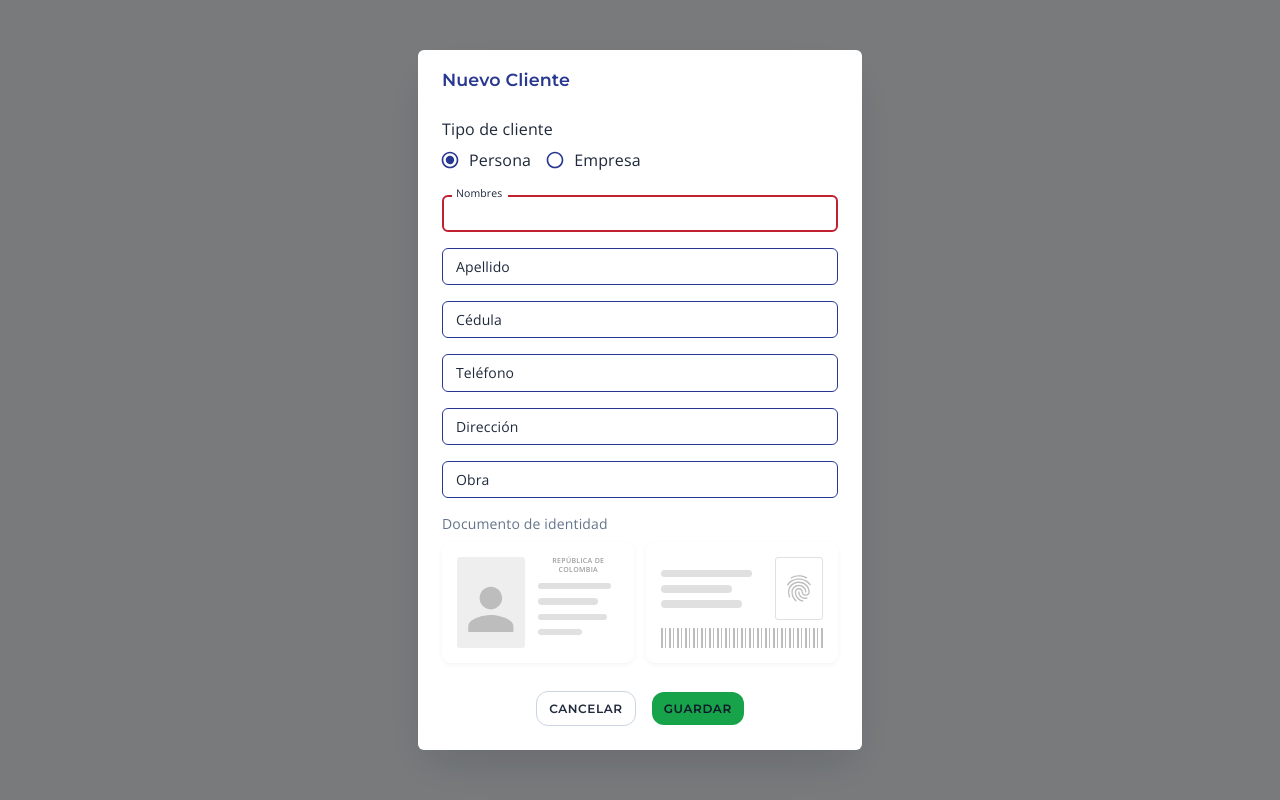
Test: ClienteFormDialog — lo que no deja pasar › una persona sin nombre ni apellido no se guarda
Click the button "Guardar" at (698, 708), box [652,692,744,725]
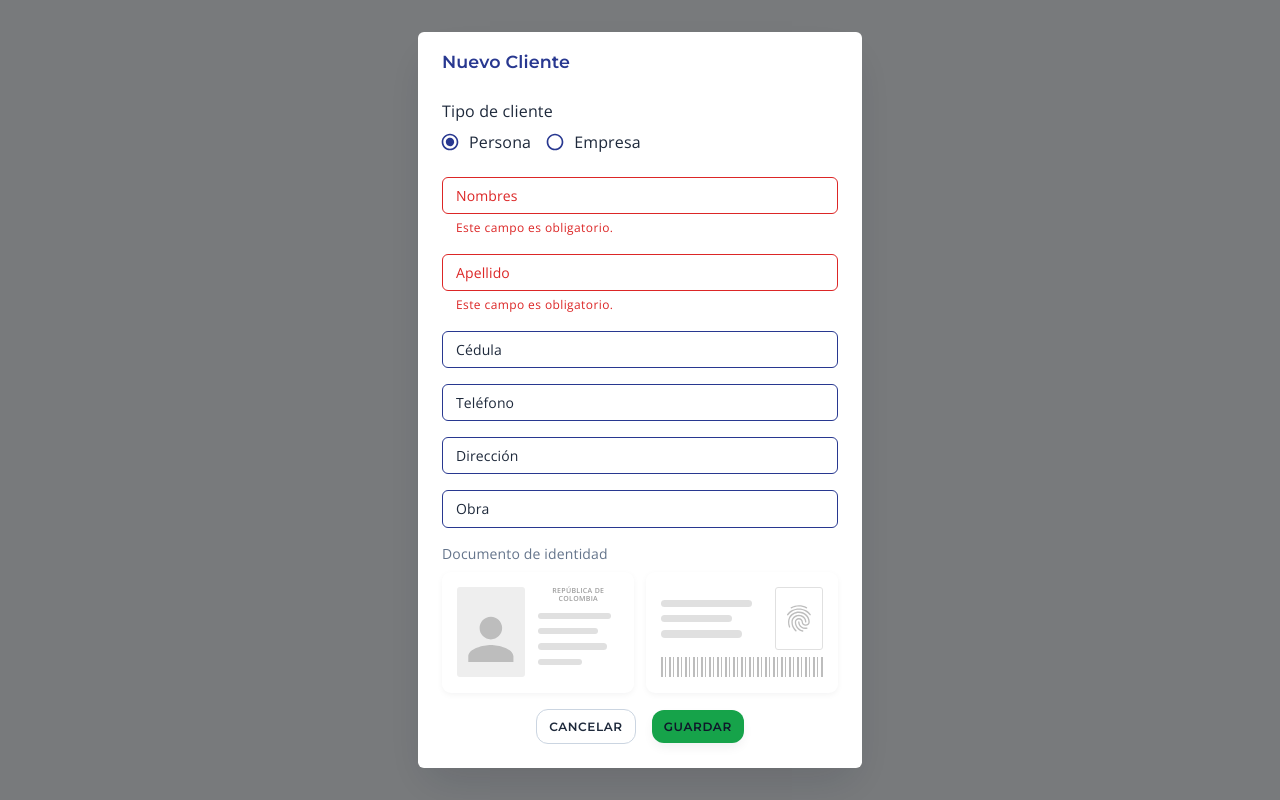
Expected: the text "Este campo es obligatorio." is shown 2 times, [456,219,613,236]; [456,296,613,313]
